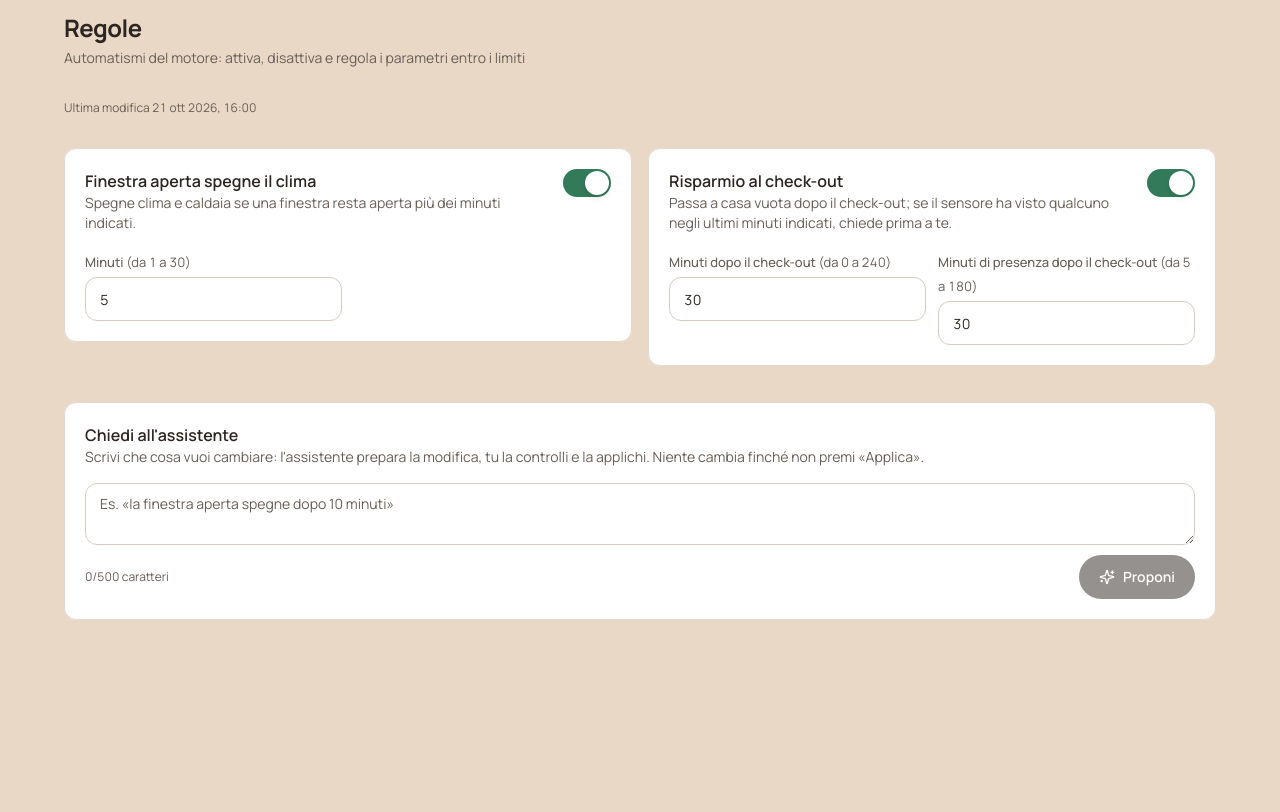
Test: Regole: «Chiedi all'assistente» (D-151) › «Applica»: manda la proposta così com'è e la pagina mostra le regole nuove
Expected: the element with test id "rule-card-window_open_off" is shown, [64,148,632,342]
Type "la finestra aperta spegne dopo 10 minuti" into the text box with test id "rule-proposal-text" at (640, 514), box [85,483,1195,545]
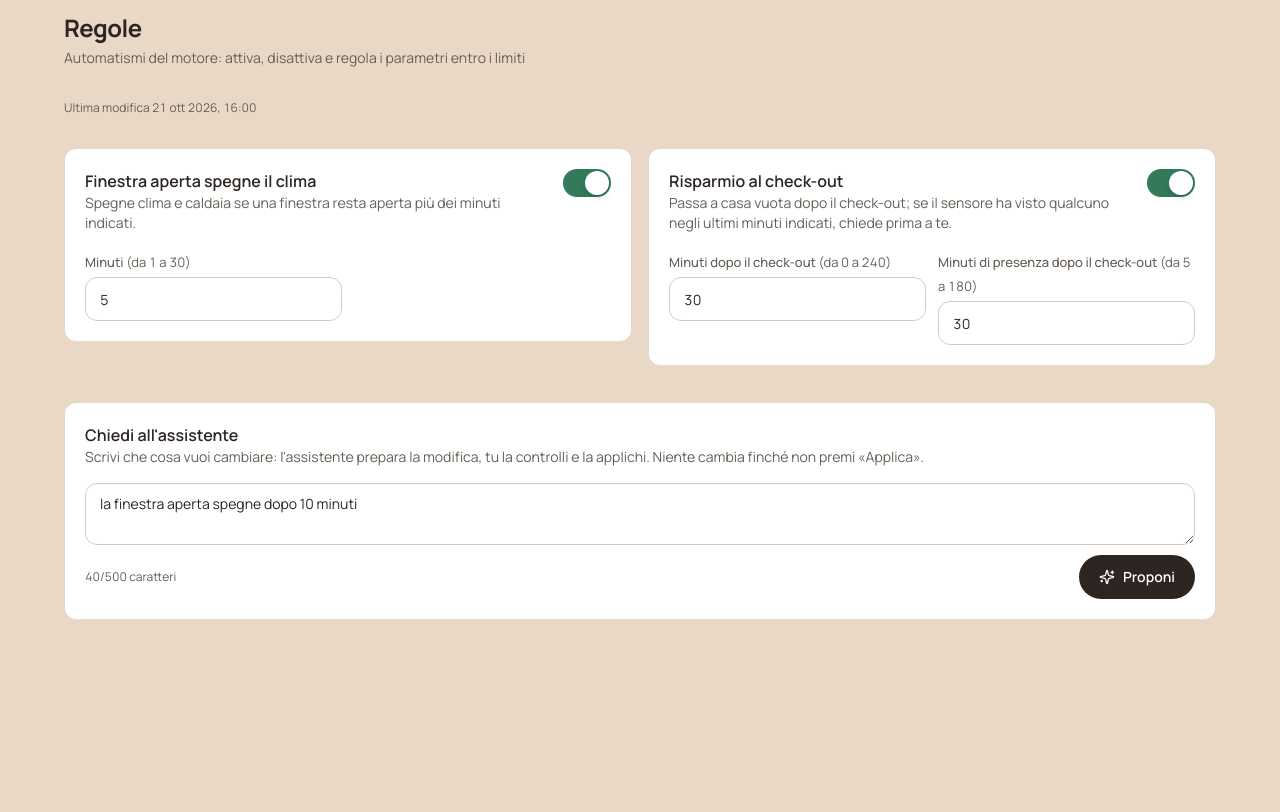
Click the button with test id "rule-proposal-ask" at (1137, 577), box [1079,555,1195,599]
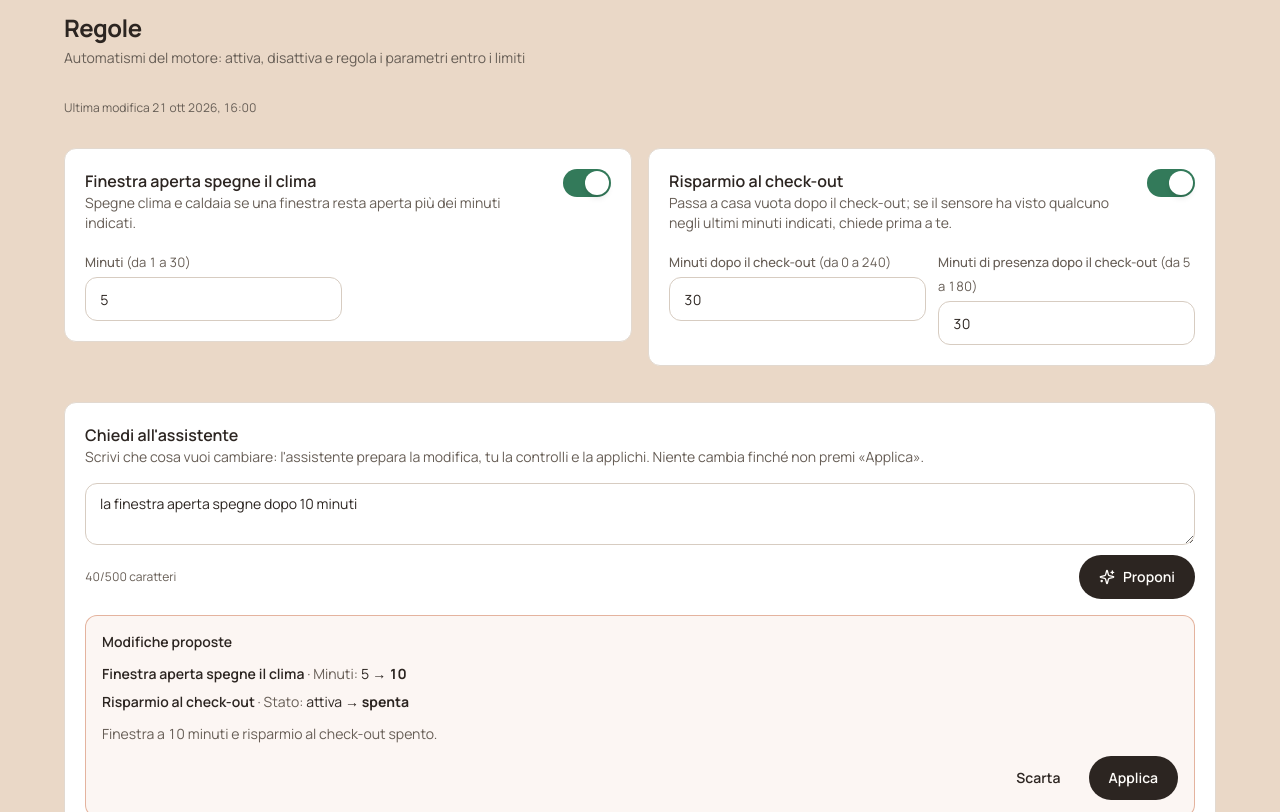
Click the button with test id "rule-proposal-apply" at (1133, 778), box [1088,756,1178,800]
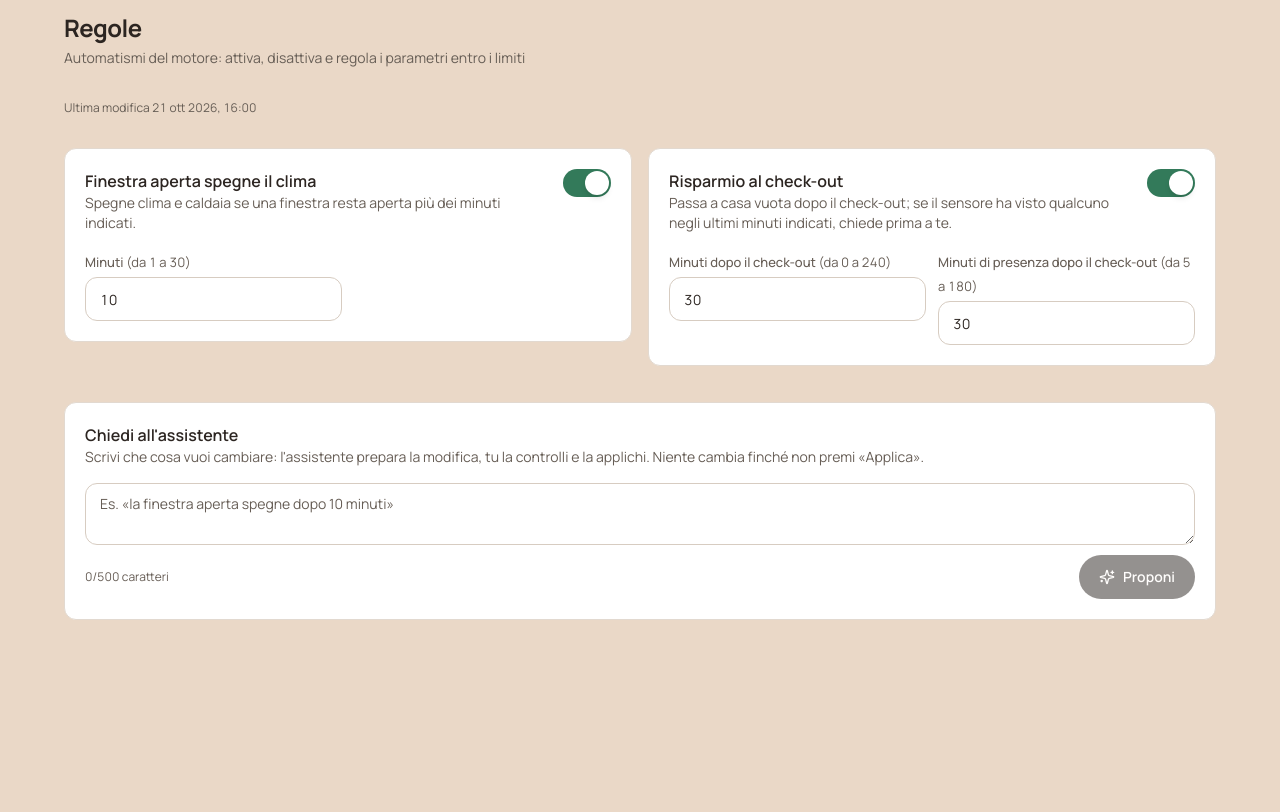
Result: the number field with test id "rule-param-window_open_off-minutes" holds "10" at [85,277,342,321]
Result: the text box with test id "rule-proposal-text" is empty at [85,483,1195,545]
